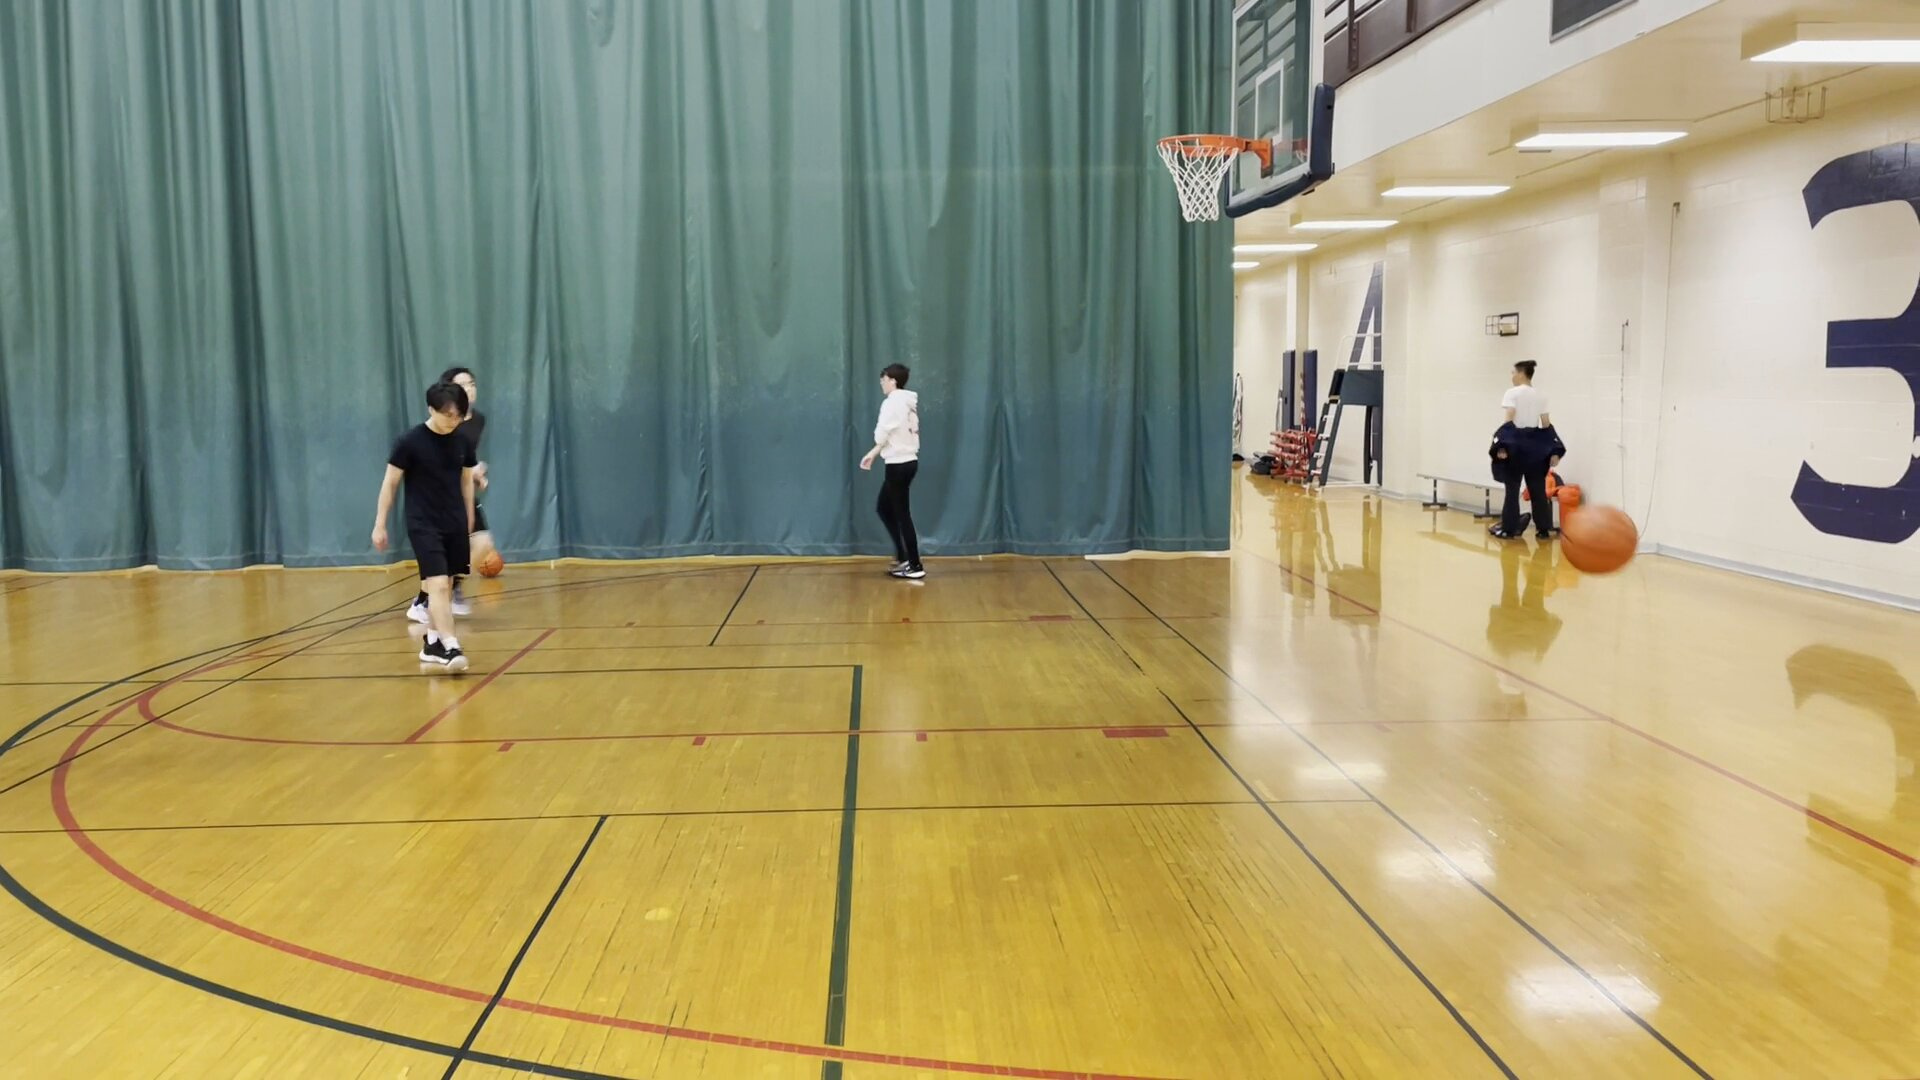ball: (1555, 500, 1641, 577), (472, 546, 507, 583)
net: (1167, 200, 1231, 230)
player: (370, 378, 484, 684), (851, 360, 934, 587), (1483, 358, 1562, 550)
rim: (1151, 126, 1251, 164)
